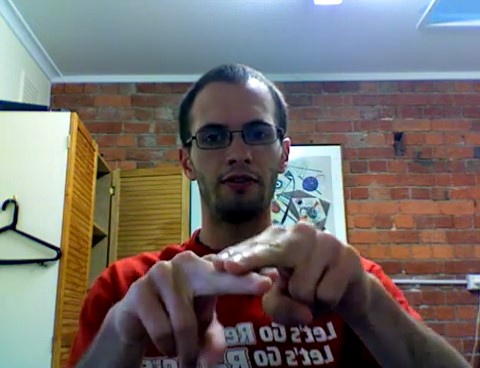F: (113, 217, 371, 368)
